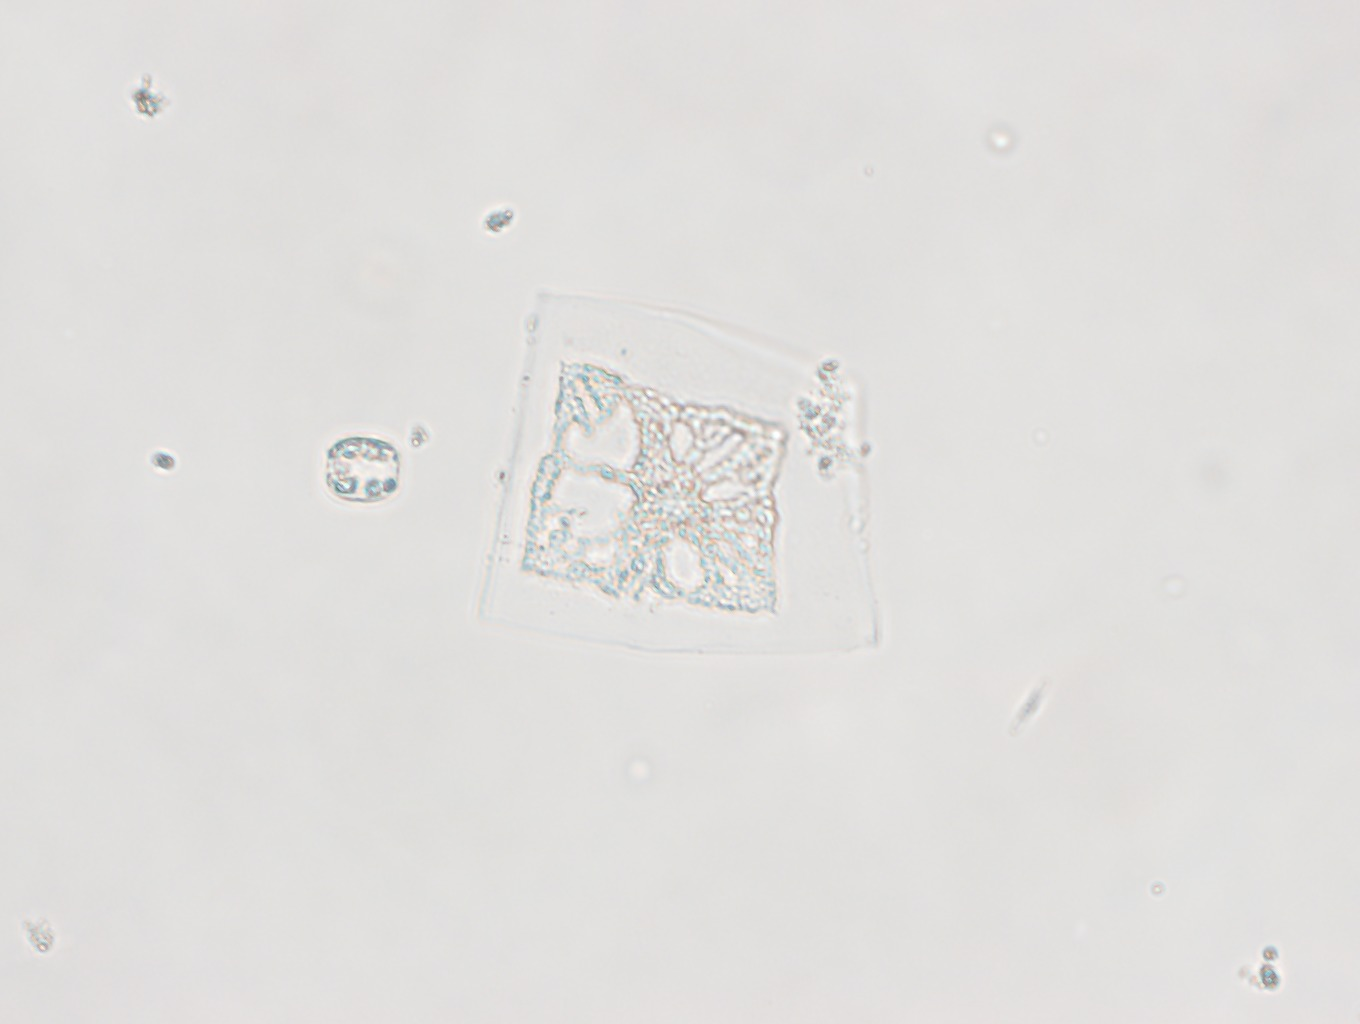helicotheca: (477, 286, 876, 659)
